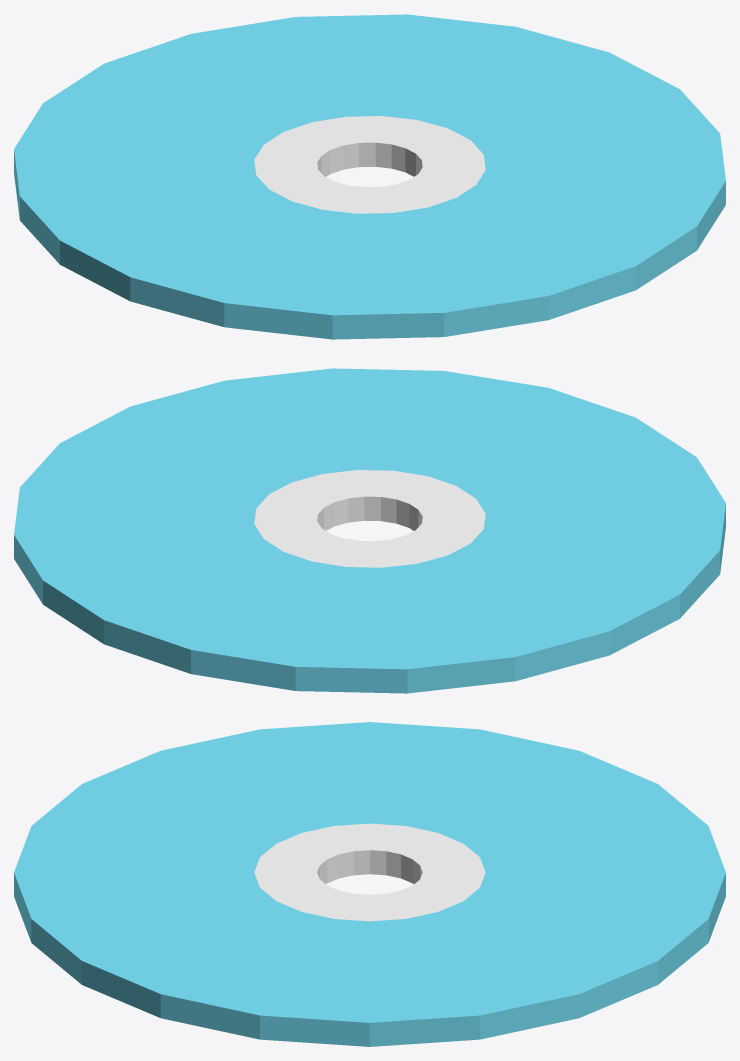
File: Disc.fbx
The picture shows the model from 3 angles, top to bottom: view 1: azimuth 30°, elevation 25°; view 2: azimuth 150°, elevation 25°; view 3: azimuth 270°, elevation 25°; orthographic projection.
Parts seen in each view (by area): view 1: pCylinder10; view 2: pCylinder10; view 3: pCylinder10.
Part boxes in pixels (left/top/right/bottom): pCylinder10: left=14, top=14, right=725, bottom=339; pCylinder10: left=14, top=368, right=725, bottom=693; pCylinder10: left=14, top=722, right=725, bottom=1046.
Bounding box in the file's own units: 9.55 × 0.3566 × 9.55.
1 material, 1 textured.
